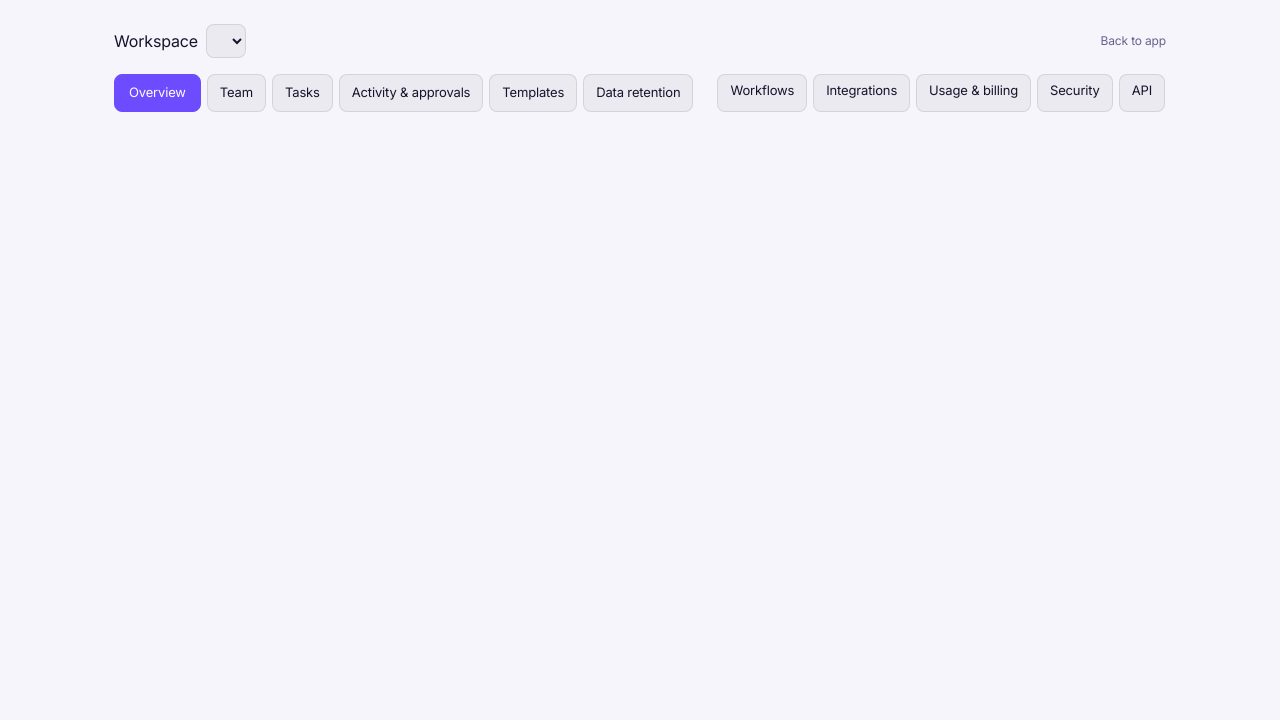
Test: verification email: not shown to verified users
The image size is (1280, 720).
Step 1. Click the tab "Team" → {"x": 236, "y": 93}, box [207,74,266,112]
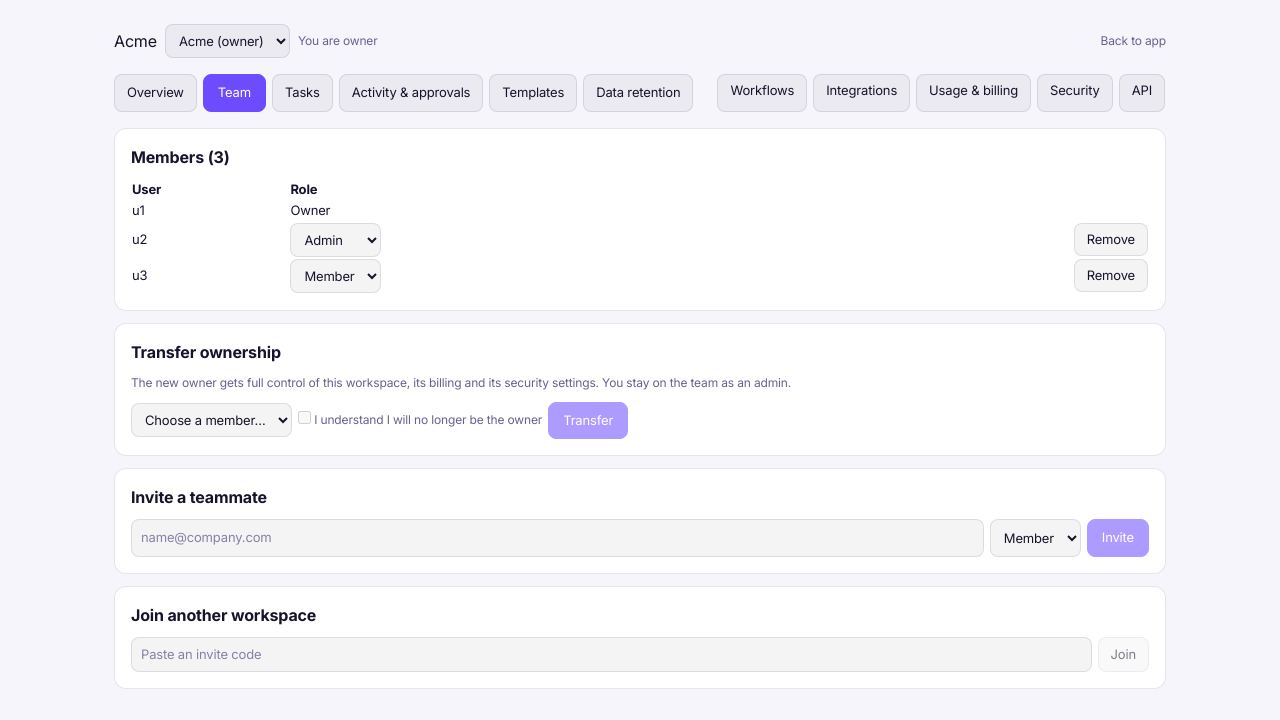
Check: the element named "Join a workspace" is shown, box [114,586,1166,689]
